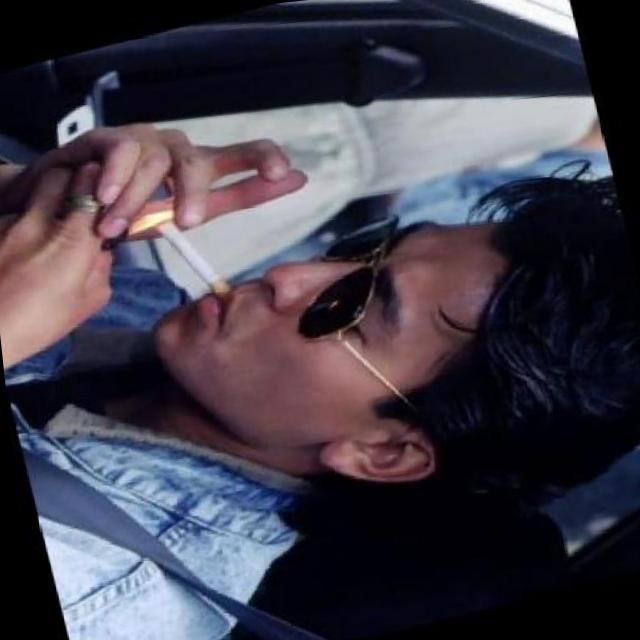smoke: (151, 202, 238, 312)
